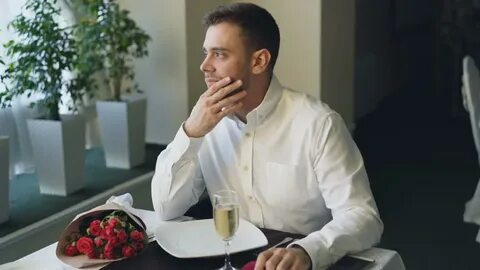awake: (150, 2, 386, 270)
